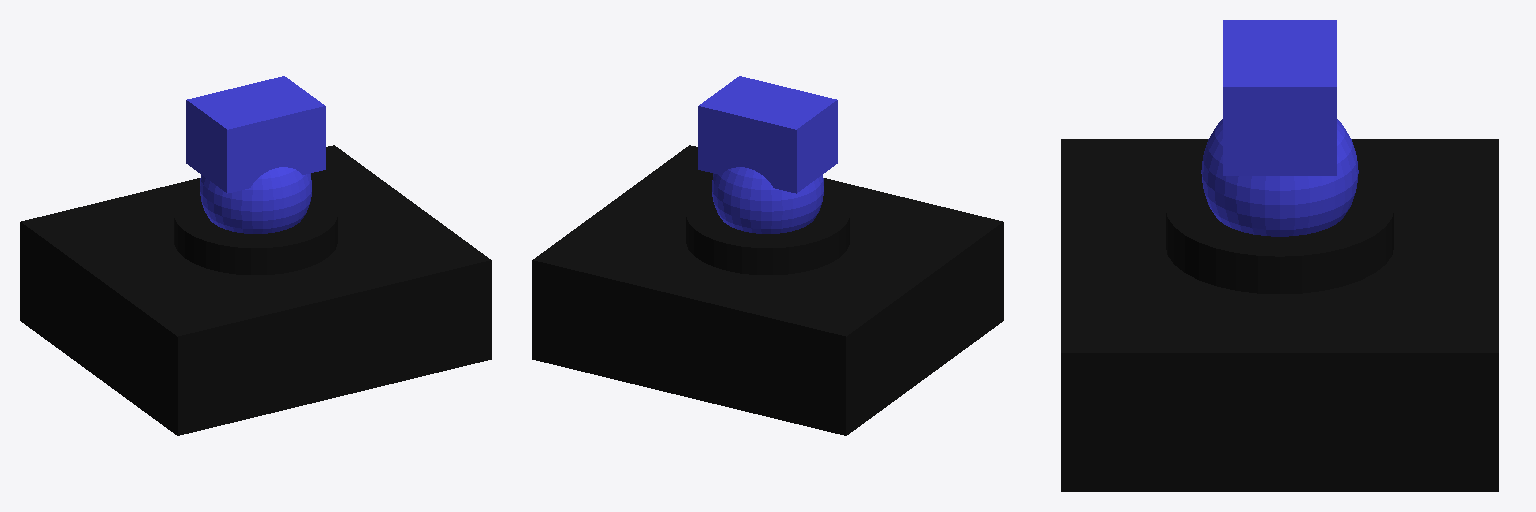
The robot description file, URDF, robot "evolved_robot":
<?xml version="1.0"?>
<robot name="evolved_robot">
  <material name="metal">
    <color rgba="0.7 0.7 0.7 1.0"/>
  </material>
  <material name="plastic">
    <color rgba="0.3 0.3 0.9 1.0"/>
  </material>
  <material name="rubber">
    <color rgba="0.1 0.1 0.1 1.0"/>
  </material>
  <material name="red">
    <color rgba="1.0 0.0 0.0 1.0"/>
  </material>
  <material name="wheel_material">
    <color rgba="0.2 0.2 0.2 1.0"/>
  </material>
  <link name="base_link">
    <visual>
      <geometry><box size="0.30973124463305235 0.2684687973001153 0.09384700153046605"/></geometry>
      <material name="rubber"/>
    </visual>
    <collision>
      <geometry><box size="0.30973124463305235 0.2684687973001153 0.09384700153046605"/></geometry>
    </collision>
    <inertial>
      <mass value="5.0"/>
      <inertia ixx="0.06740229568335808" ixy="0" ixz="0" 
               iyy="0.08728391966516585" iyz="0" 
               izz="0.14000744918809177"/>
    </inertial>
  </link>
  <link name="link1">
    <visual>
      <geometry><cylinder radius="0.07022127573045568" length="0.05117655427204454"/></geometry>
      <material name="rubber"/>
    </visual>
    <collision>
      <geometry><cylinder radius="0.07022127573045568" length="0.05117655427204454"/></geometry>
    </collision>
    <inertial>
      <mass value="0.5"/>
      <inertia ixx="0.0014510102002331313" ixy="0" ixz="0" 
               iyy="0.0014510102002331313" iyz="0" 
               izz="0.002465513782606342"/>
    </inertial>
  </link>
  <joint name="joint1" type="revolute">
    <parent link="base_link"/>
    <child link="link1"/>
    <origin xyz="0 0 0.04692350076523302" rpy="0 0 0"/>
    <axis xyz="-0.8511251101486634 -0.050849406801277044 -0.5224943872448619"/>
    <dynamics damping="0.4352964838620792" friction="0.1"/>
    <limit lower="-0.45198415874903025" upper="0.31400000000000006" effort="100" velocity="100"/>
  </joint>
  <link name="link2">
    <visual>
      <geometry><sphere radius="0.0482713972678953"/></geometry>
      <material name="plastic"/>
    </visual>
    <collision>
      <geometry><sphere radius="0.0482713972678953"/></geometry>
    </collision>
    <inertial>
      <mass value="0.5"/>
      <inertia ixx="0.0009320511176779877" ixy="0" ixz="0" 
               iyy="0.0009320511176779877" iyz="0" 
               izz="0.0009320511176779877"/>
    </inertial>
  </link>
  <joint name="joint2" type="fixed">
    <parent link="base_link"/>
    <child link="link2"/>
    <origin xyz="0 0 0.09692350076523303" rpy="0 0 0"/>
    <axis xyz="0.16633968180054381 -0.949888529466411 0.26465617666442853"/>
    <dynamics damping="0.32429681390972" friction="0.1"/>
  </joint>
  <link name="link3">
    <visual>
      <geometry><box size="0.09674596194546795 0.0701183282417595 0.060289102799960734"/></geometry>
      <material name="plastic"/>
    </visual>
    <collision>
      <geometry><box size="0.09674596194546795 0.0701183282417595 0.060289102799960734"/></geometry>
    </collision>
    <inertial>
      <mass value="0.5"/>
      <inertia ixx="0.0007126129893202802" ixy="0" ixz="0" 
               iyy="0.001082879755764847" iyz="0" 
               izz="0.0011896967590144215"/>
    </inertial>
  </link>
  <joint name="joint3" type="fixed">
    <parent link="base_link"/>
    <child link="link3"/>
    <origin xyz="0 0 0.14692350076523303" rpy="0 0 0"/>
    <axis xyz="0.9777230935505702 -0.1699403392403962 -0.1231983499758095"/>
    <dynamics damping="0.6617432306237528" friction="0.1"/>
  </joint>
</robot>

--- What the picture shows (computed from the rendered views, not written in the file) ---
The picture shows the robot from 3 angles, left to right: view 1: azimuth 30°, elevation 25°; view 2: azimuth 150°, elevation 25°; view 3: azimuth 270°, elevation 25°; orthographic projection.
Model evolved_robot with 4 links and 3 joints (1 revolute, 2 fixed), rooted at base_link, posed all joints at 0.
Visible links, largest first — view 1: base_link, link3, link1, link2; view 2: base_link, link3, link1, link2; view 3: base_link, link3, link1, link2.
Boxes of the visible links, x1,y1,x2,y2 form: base_link: (20,145,491,435); link3: (186,76,325,193); link1: (174,189,337,274); link2: (200,167,311,233); base_link: (532,145,1003,435); link3: (698,76,837,193); link1: (686,189,849,274); link2: (712,167,823,233); base_link: (1061,139,1498,491); link3: (1223,20,1336,175); link1: (1166,174,1393,293); link2: (1201,119,1358,236).
Size in the robot's own frame: 0.3097 by 0.2685 by 0.224 metres.
Geometry: primitives only (box / cylinder / sphere), no mesh files.